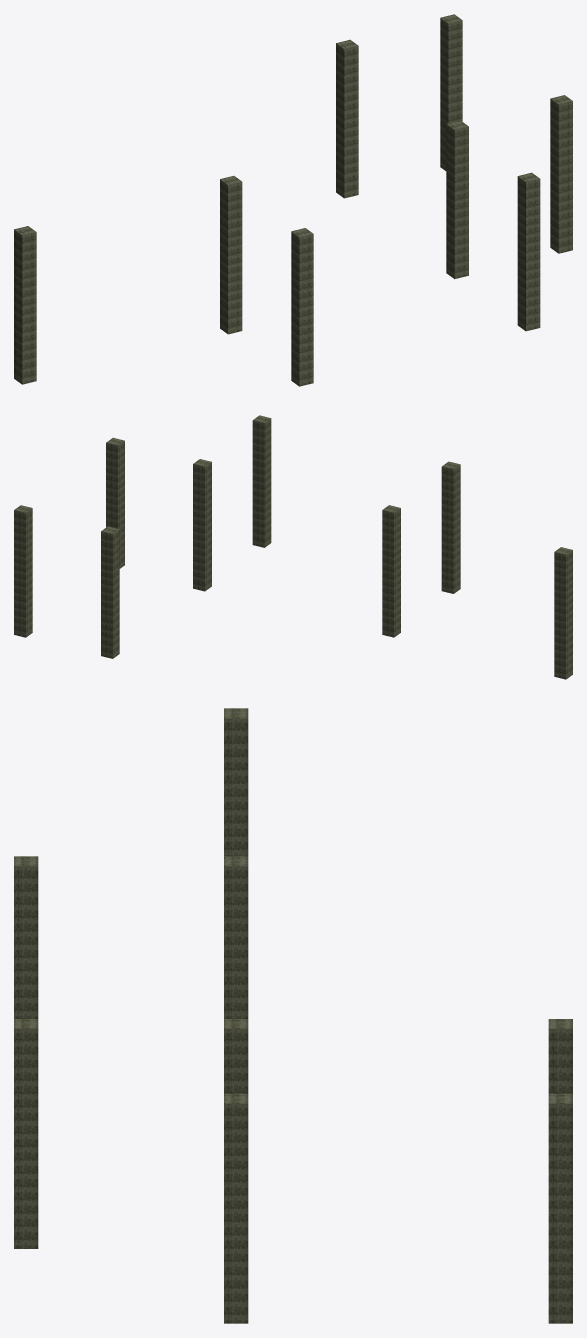
3 views of the same model, one above another, from view 1: azimuth 30°, elevation 25°; view 2: azimuth 150°, elevation 25°; view 3: azimuth 270°, elevation 25° (orthographic). The views are drawn at different scales.
Visible parts, largest first — view 1: Columns_Rectangular 300 x 300 mm [624590]001, Columns_Rectangular 300 x 300 mm [625571]001, Columns_Rectangular 300 x 300 mm [625088]001, Columns_Rectangular 300 x 300 mm [624487]001, Columns_Rectangular 300 x 300 mm [624881]001, Columns_Rectangular 300 x 300 mm [625359]001, Columns_Rectangular 300 x 300 mm [625446]001, Columns_Rectangular 300 x 300 mm [625676]001; view 2: Columns_Rectangular 300 x 300 mm [624590]001, Columns_Rectangular 300 x 300 mm [624881]001, Columns_Rectangular 300 x 300 mm [625446]001, Columns_Rectangular 300 x 300 mm [625676]001, Columns_Rectangular 300 x 300 mm [624487]001, Columns_Rectangular 300 x 300 mm [625088]001, Columns_Rectangular 300 x 300 mm [625359]001, Columns_Rectangular 300 x 300 mm [625571]001; view 3: Columns_Rectangular 300 x 300 mm [625571]001, Columns_Rectangular 300 x 300 mm [625676]001, Columns_Rectangular 300 x 300 mm [624590]001, Columns_Rectangular 300 x 300 mm [624881]001, Columns_Rectangular 300 x 300 mm [625359]001, Columns_Rectangular 300 x 300 mm [625088]001, Columns_Rectangular 300 x 300 mm [624487]001, Columns_Rectangular 300 x 300 mm [625446]001.
Part boxes in pixels (box(x1,y1,x2,y2)): Columns_Rectangular 300 x 300 mm [624590]001: box(517, 172, 540, 331); Columns_Rectangular 300 x 300 mm [625571]001: box(550, 95, 572, 253); Columns_Rectangular 300 x 300 mm [625088]001: box(14, 226, 36, 384); Columns_Rectangular 300 x 300 mm [624487]001: box(336, 39, 358, 198); Columns_Rectangular 300 x 300 mm [624881]001: box(291, 228, 313, 386); Columns_Rectangular 300 x 300 mm [625359]001: box(220, 176, 242, 334); Columns_Rectangular 300 x 300 mm [625446]001: box(446, 120, 468, 279); Columns_Rectangular 300 x 300 mm [625676]001: box(440, 14, 462, 170); Columns_Rectangular 300 x 300 mm [624590]001: box(252, 415, 271, 547); Columns_Rectangular 300 x 300 mm [624881]001: box(441, 461, 460, 593); Columns_Rectangular 300 x 300 mm [625446]001: box(193, 459, 211, 591); Columns_Rectangular 300 x 300 mm [625676]001: box(14, 505, 32, 637); Columns_Rectangular 300 x 300 mm [624487]001: box(101, 526, 119, 658); Columns_Rectangular 300 x 300 mm [625088]001: box(554, 547, 572, 679); Columns_Rectangular 300 x 300 mm [625359]001: box(382, 505, 400, 637); Columns_Rectangular 300 x 300 mm [625571]001: box(106, 437, 124, 568); Columns_Rectangular 300 x 300 mm [625571]001: box(224, 1093, 248, 1323); Columns_Rectangular 300 x 300 mm [625676]001: box(548, 1093, 572, 1323); Columns_Rectangular 300 x 300 mm [624590]001: box(14, 1019, 38, 1248); Columns_Rectangular 300 x 300 mm [624881]001: box(14, 856, 38, 1018); Columns_Rectangular 300 x 300 mm [625359]001: box(224, 856, 248, 1018); Columns_Rectangular 300 x 300 mm [625088]001: box(224, 708, 248, 856); Columns_Rectangular 300 x 300 mm [624487]001: box(548, 1019, 572, 1093); Columns_Rectangular 300 x 300 mm [625446]001: box(224, 1019, 248, 1093).
Size of the model in its own units: 11.58 by 3 by 6.91.
Materials: 1 (1 with a texture image).
